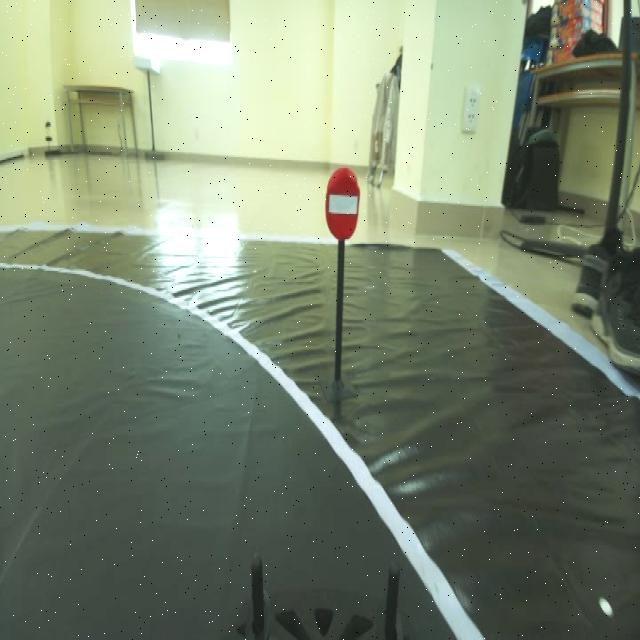no_entry: (318, 159, 367, 251)
